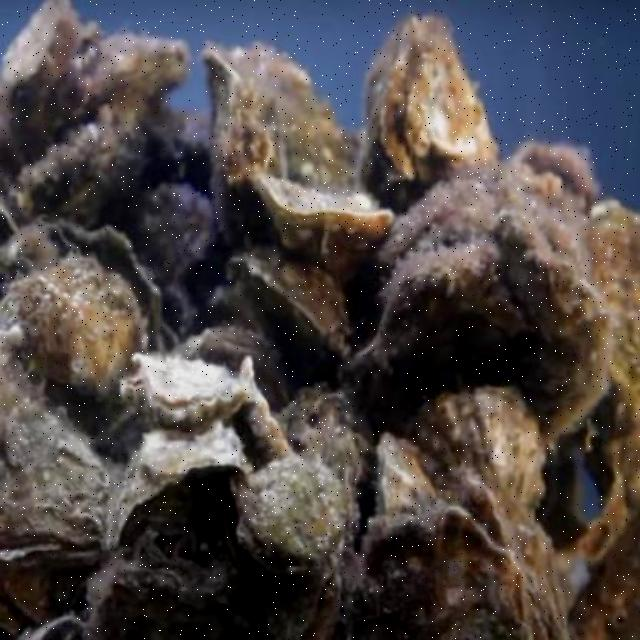Oyster-Closed: (335, 239, 526, 439), (212, 43, 350, 257), (487, 218, 607, 449), (369, 11, 494, 207), (407, 403, 556, 537), (111, 426, 250, 537), (263, 171, 392, 287), (235, 449, 350, 573), (23, 262, 137, 382), (246, 253, 353, 367), (587, 198, 638, 432), (284, 382, 374, 508), (106, 184, 218, 280), (172, 332, 294, 414), (75, 43, 186, 130), (125, 351, 246, 426), (4, 7, 84, 103), (372, 435, 433, 548), (239, 362, 292, 469)
Oyster-Open: (3, 225, 174, 364), (0, 371, 114, 574), (439, 480, 557, 638)
